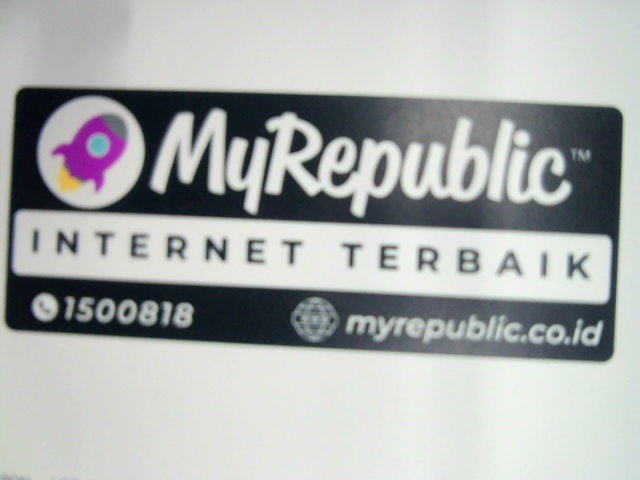BD_MyRepublic: (7, 83, 620, 363)
